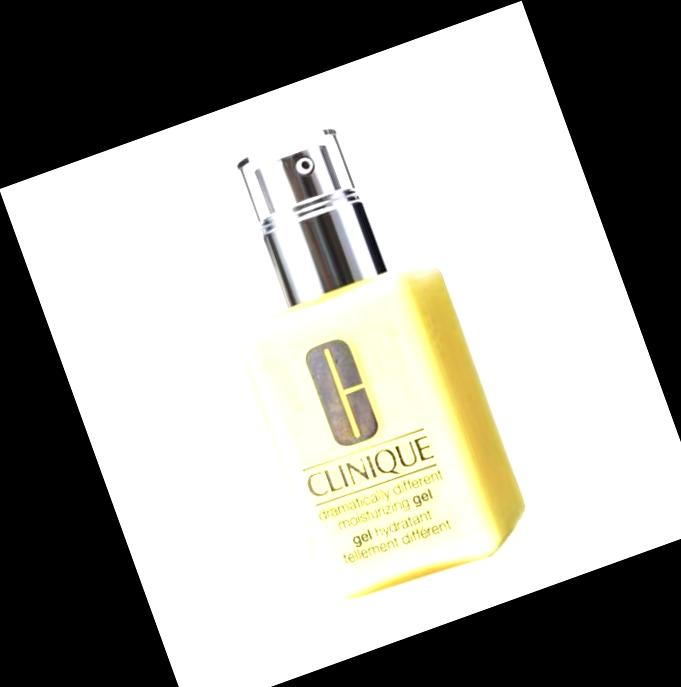cosmetic: (175, 101, 537, 609)
